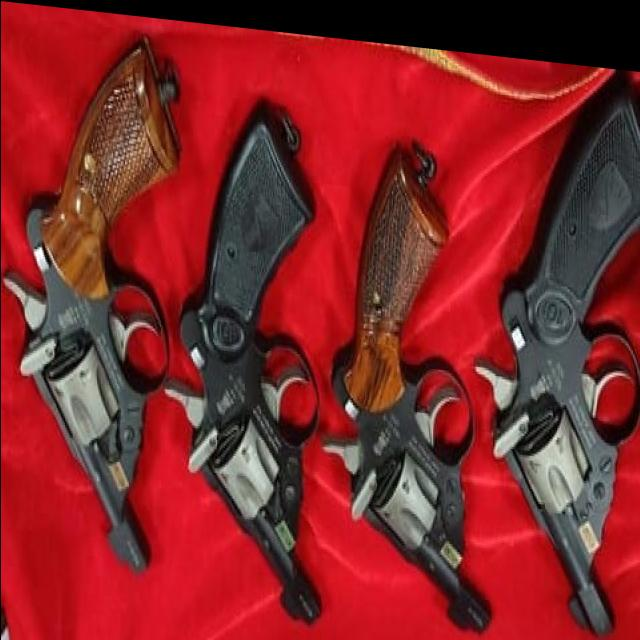handgun: (4, 16, 179, 578), (493, 55, 640, 630), (329, 131, 493, 628), (188, 94, 315, 604)
